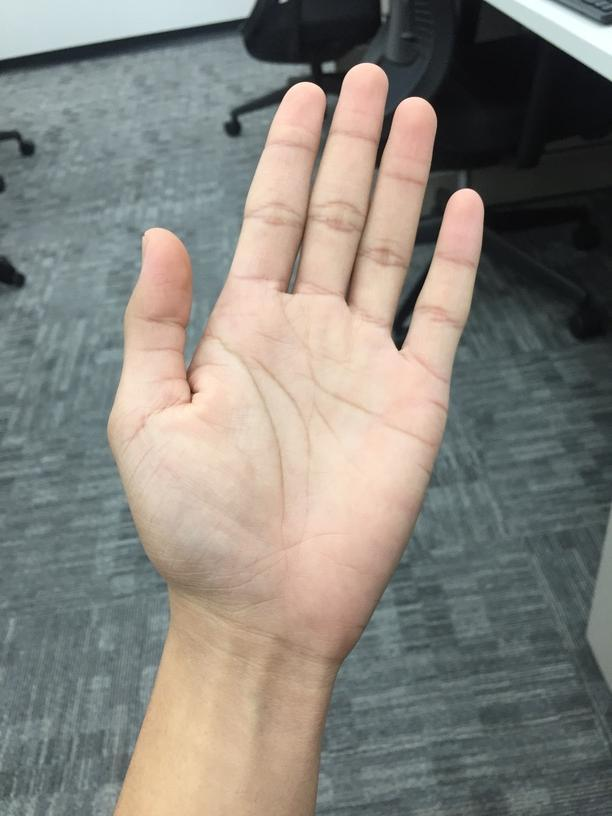hand: (107, 55, 487, 664)
